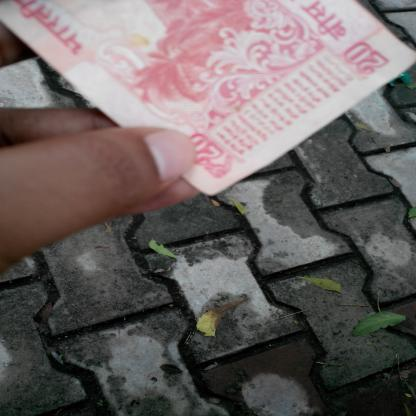Old20Back: (0, 0, 416, 196)
